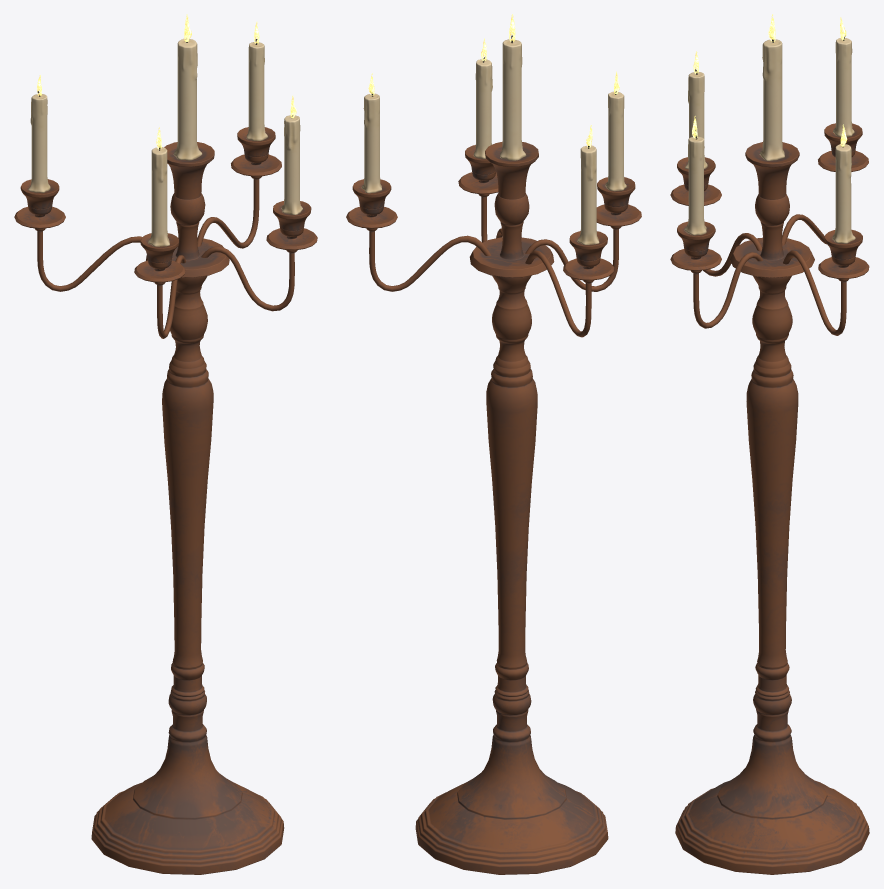
The model's file is Candle_Stand.fbx.
The picture shows the model from 3 angles, left to right: view 1: azimuth 30°, elevation 25°; view 2: azimuth 150°, elevation 25°; view 3: azimuth 270°, elevation 25°; orthographic projection.
Parts seen in each view (by area): view 1: Candle_Stand; view 2: Candle_Stand; view 3: Candle_Stand.
Part boxes in pixels (<box>): Candle_Stand: <box>14,38,317,874</box>; Candle_Stand: <box>346,35,641,874</box>; Candle_Stand: <box>670,36,869,874</box>.
Size of the model in its own units: 5.44 by 16.35 by 3.6.
1 material, 1 textured.
